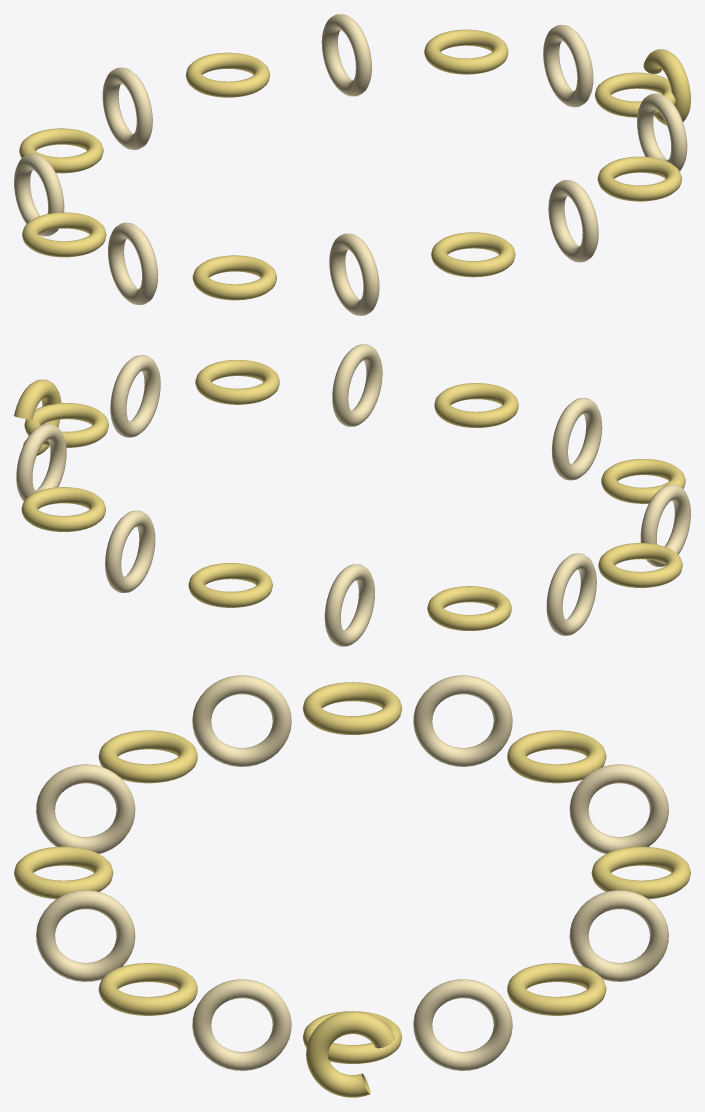
The model's file is sutra-handchain-bracelet.glb.
The picture shows the model from 3 angles, top to bottom: view 1: azimuth 30°, elevation 25°; view 2: azimuth 150°, elevation 25°; view 3: azimuth 270°, elevation 25°; orthographic projection. The views are drawn at different scales.
Parts seen in each view (by area): view 1: sutra-handchain-bracelet; view 2: sutra-handchain-bracelet; view 3: sutra-handchain-bracelet.
Part boxes in pixels (x1=…): sutra-handchain-bracelet: x1=14, y1=14, x2=690, y2=315; sutra-handchain-bracelet: x1=14, y1=344, x2=690, y2=646; sutra-handchain-bracelet: x1=14, y1=675, x2=690, y2=1097.
Size of the model in its own units: 3.4 by 0.3841 by 2.62.
